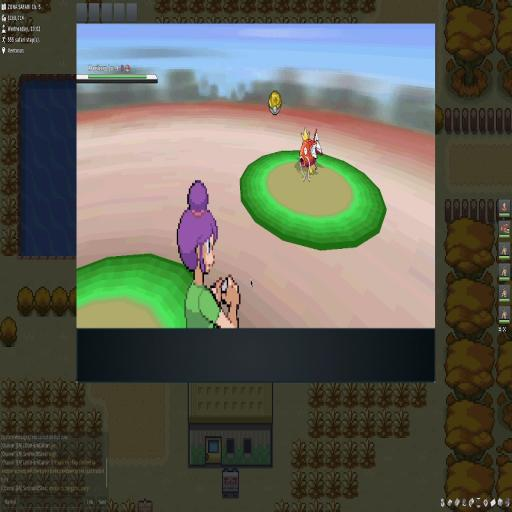MAGIKARP: (297, 127, 323, 183)
